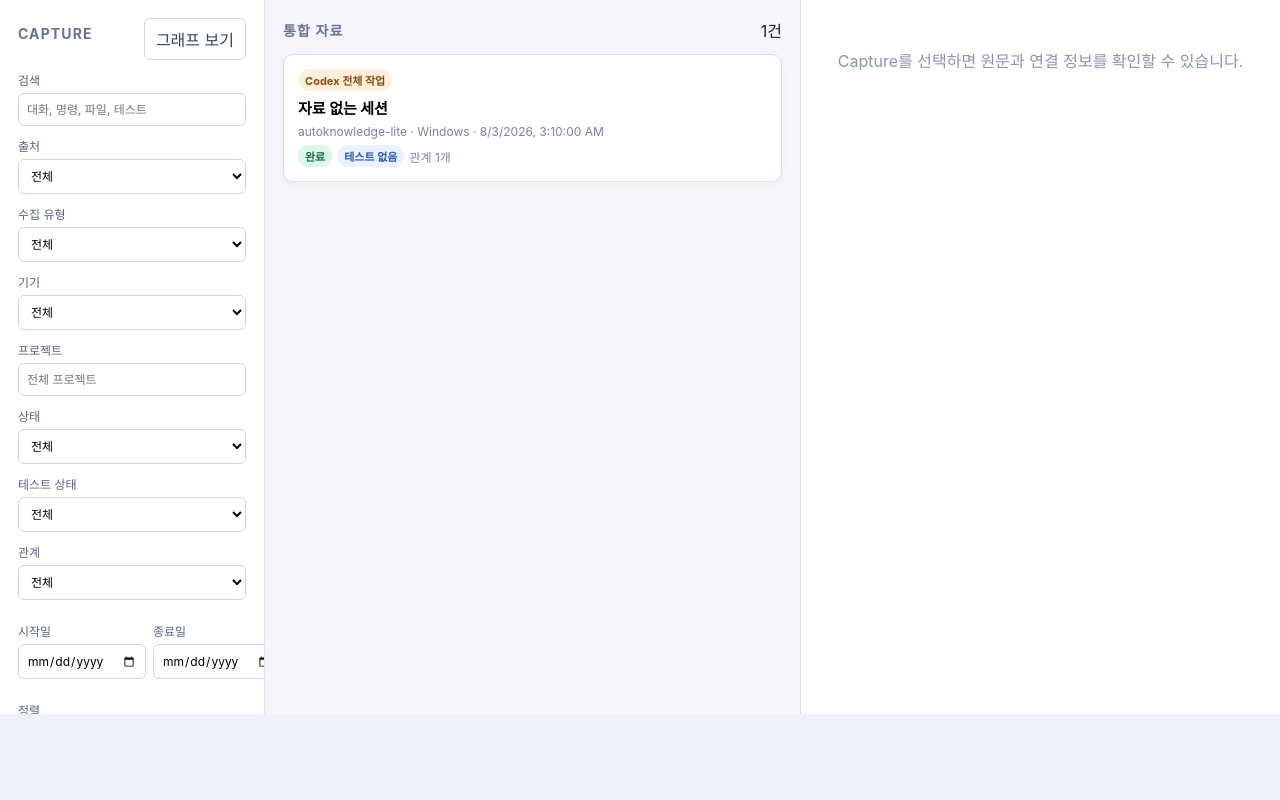
CaptureWorkspace › renders explicit empty states for every empty session tab and graph
Click the button with aria-label "Codex 전체 작업, 자료 없는 세션". click: (345,80)
box: [283,54,782,182]
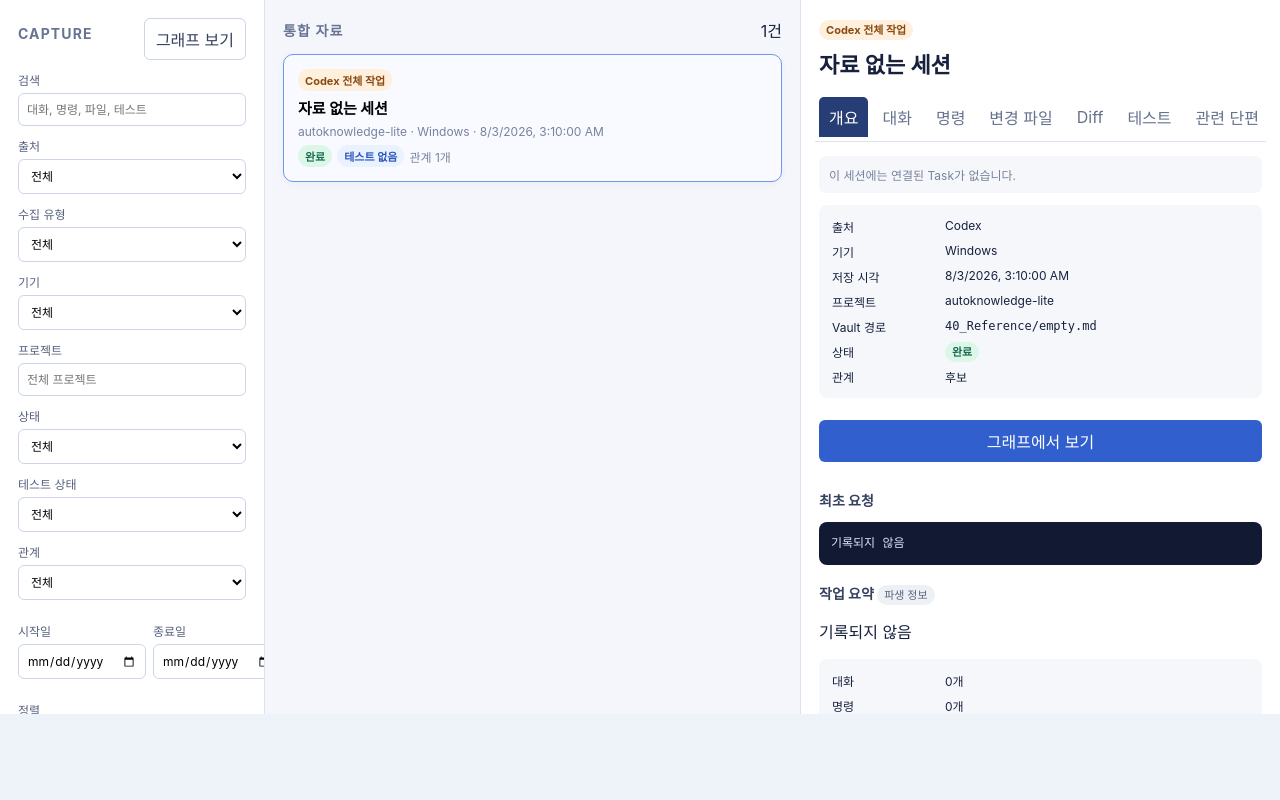
Expected: the text "이 세션에는 연결된 Task가 없습니다." is shown, [819,156,1262,193]
Click the tab "대화". click: (897,117)
box: [872,97,922,137]
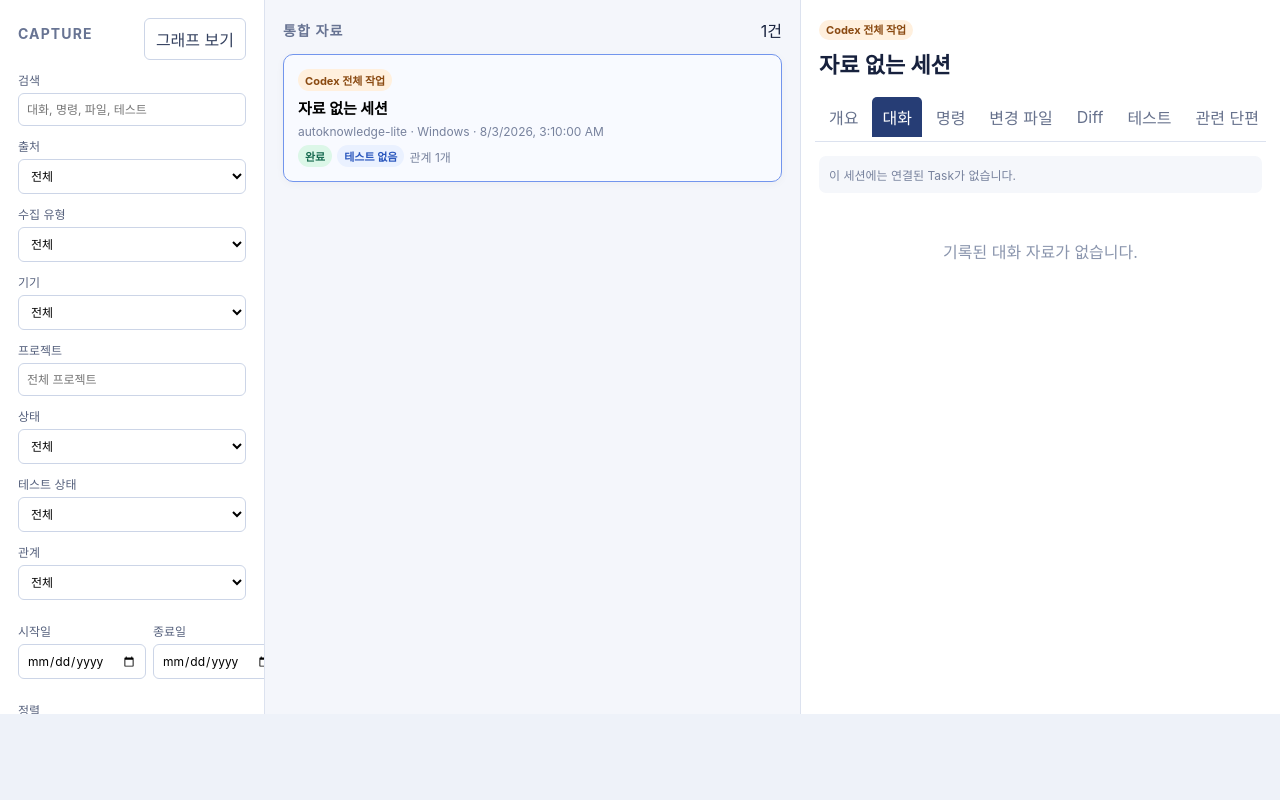
Click the tab "변경 파일". click: (1021,117)
box: [979,97,1063,137]
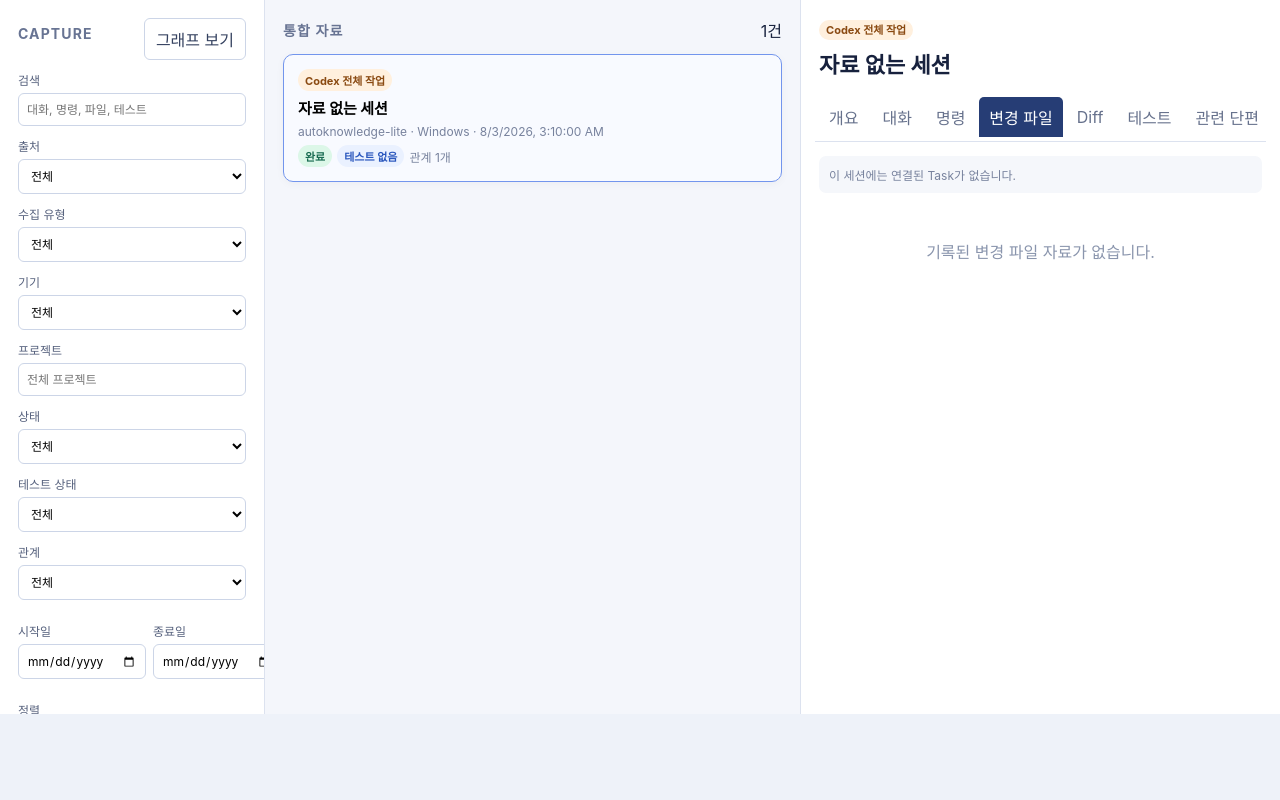
Click the tab "명령". click: (951,117)
box: [926,97,975,137]
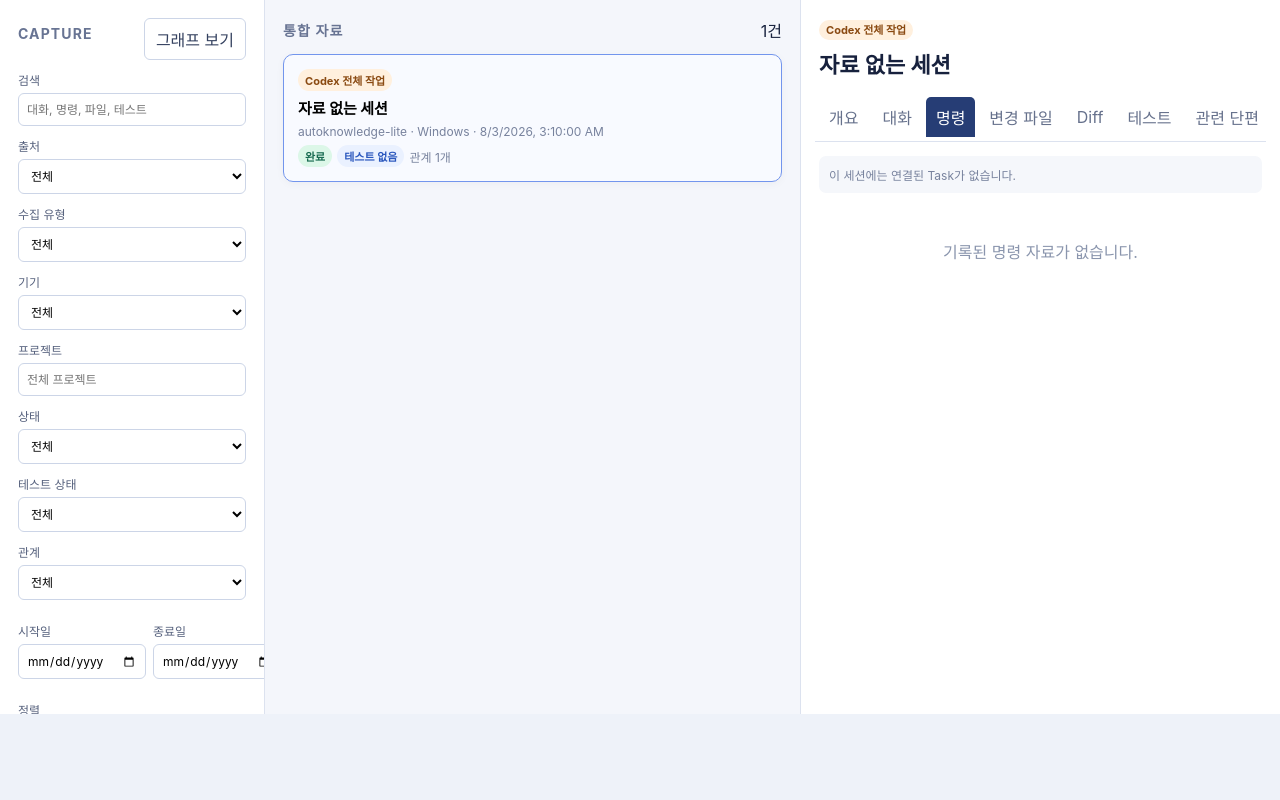
Click the tab "테스트". click: (1150,117)
box: [1117,97,1182,137]
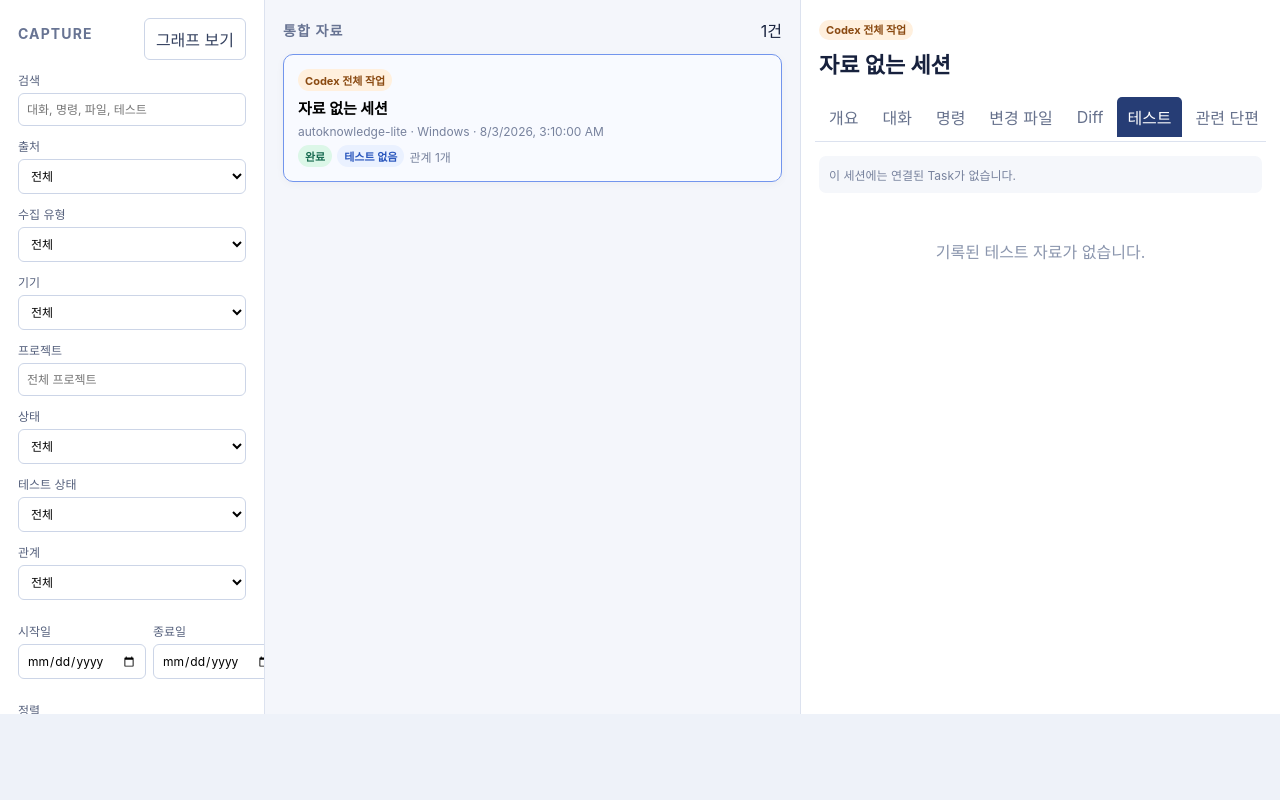
Click the button "그래프 보기". click: (195,39)
box: [144,18,246,60]
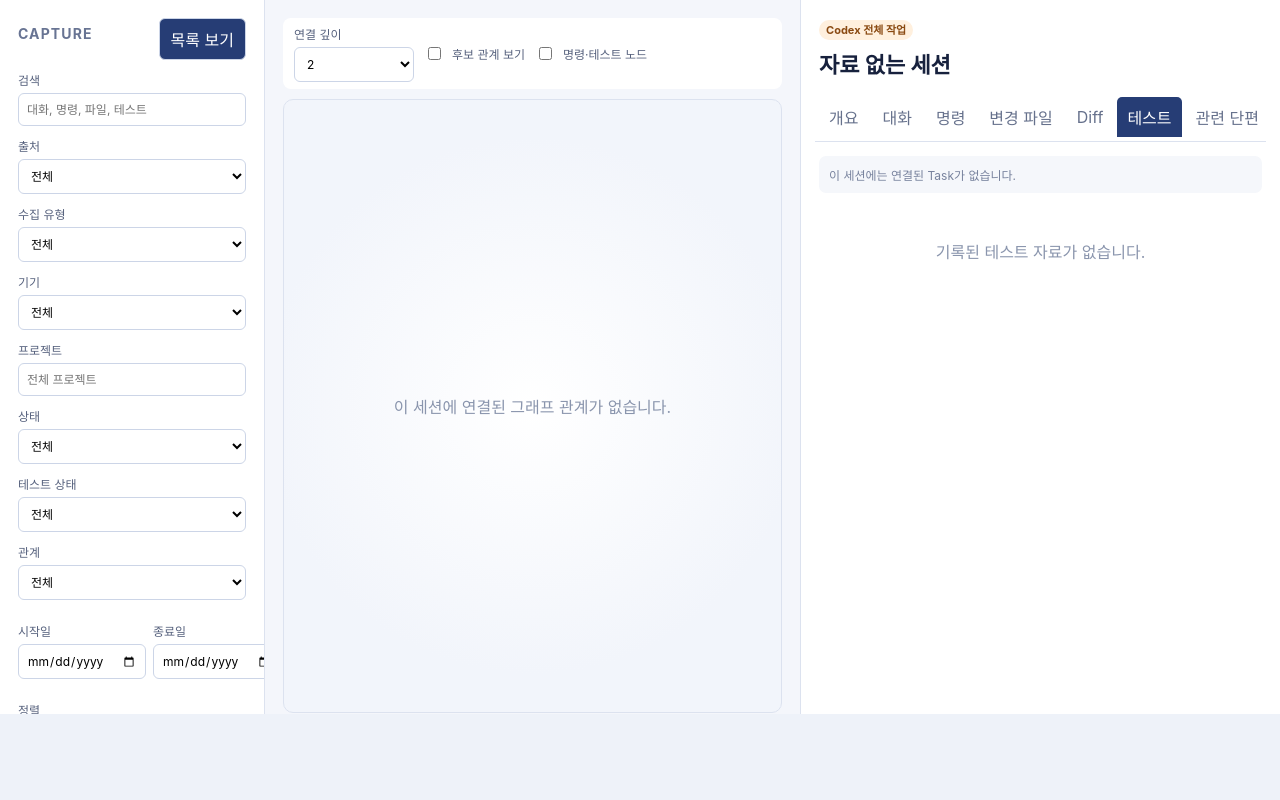
Expected: the text "이 세션에 연결된 그래프 관계가 없습니다." is shown, [394,397,671,417]
